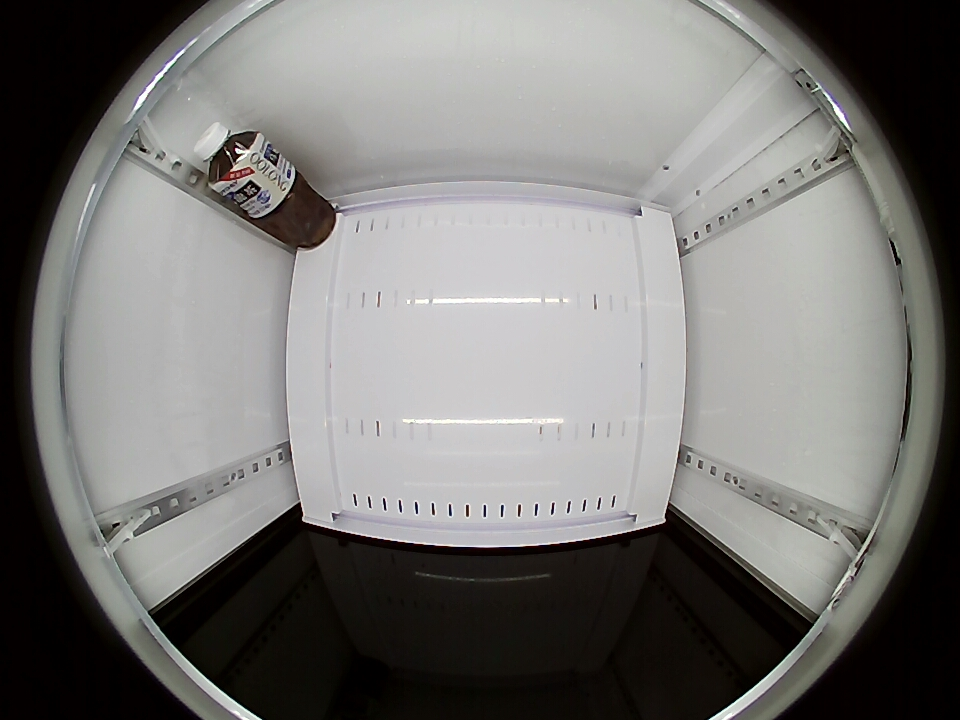wulongcha: (193, 122, 266, 195)
